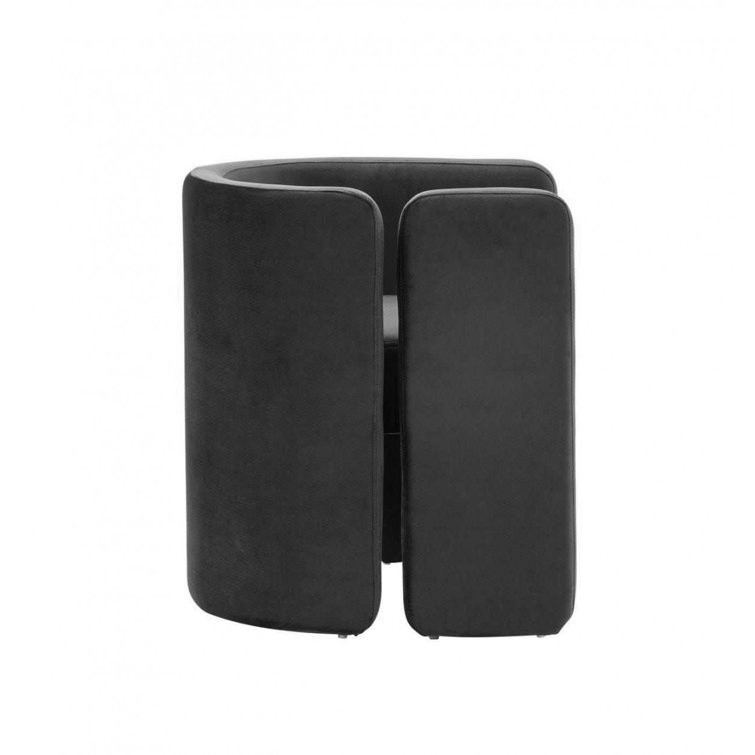obstacle: (183, 159, 574, 636)
